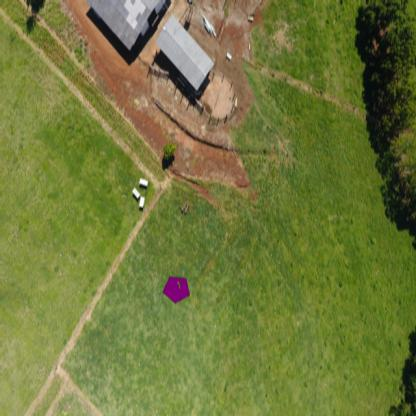1: (175, 280, 183, 291)
pentagon: (162, 274, 191, 305)
